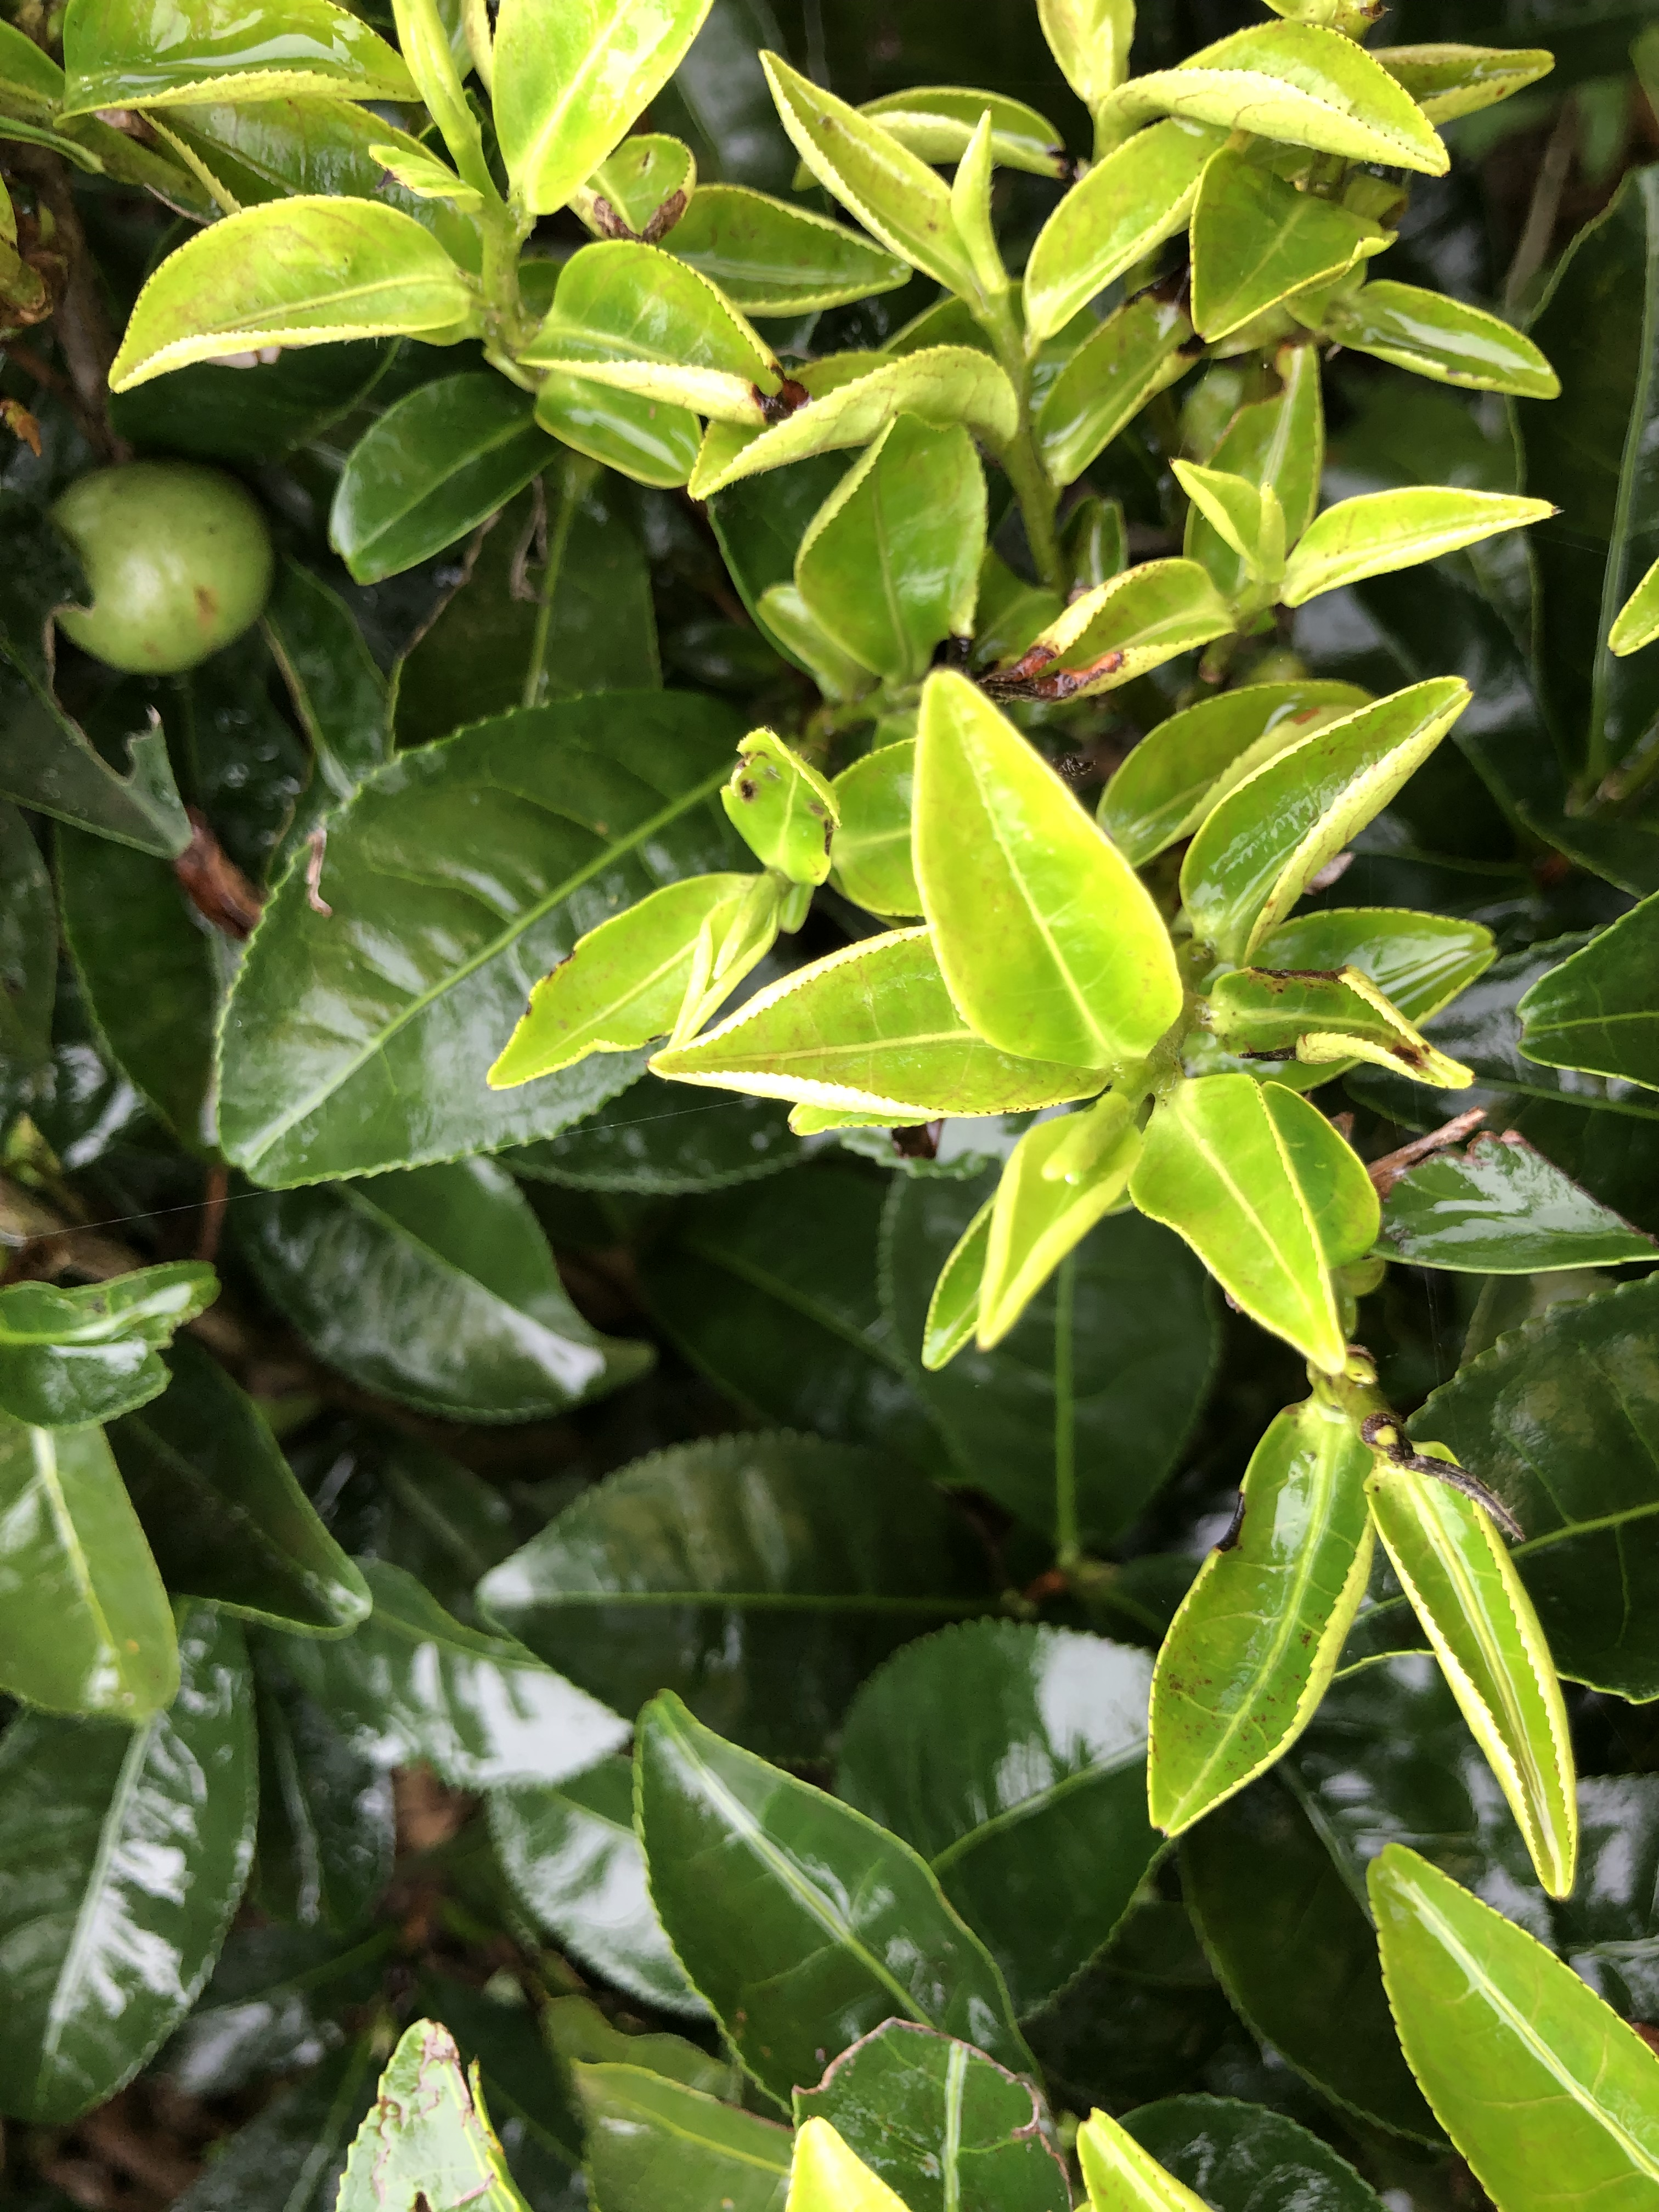formosa: (894, 660, 1175, 1061), (652, 916, 1060, 1111), (101, 181, 464, 399), (1277, 479, 1546, 599)
mosquito_late: (716, 732, 847, 881)
tortrix: (676, 333, 1028, 493)
